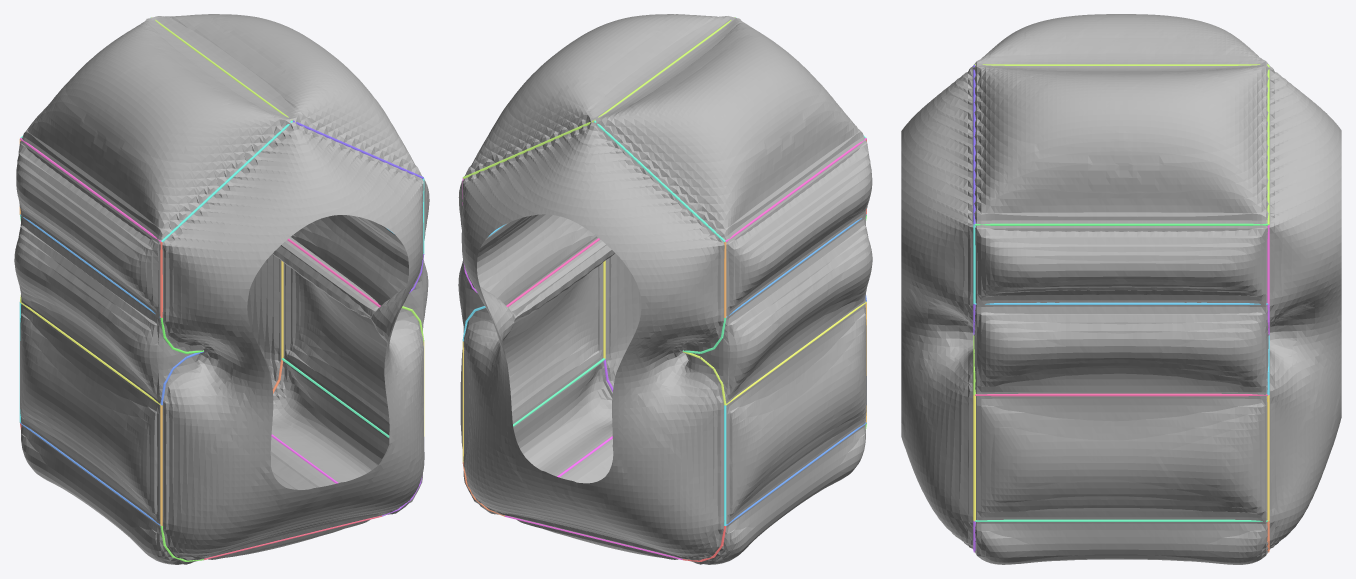
File: onshape_house.gltf
3 renders of one model, left to right at view 1: azimuth 30°, elevation 25°; view 2: azimuth 150°, elevation 25°; view 3: azimuth 270°, elevation 25°, orthographic. The views are drawn at different scales.
Size of the model in its own units: 0.5688 by 0.8255 by 0.6837.
